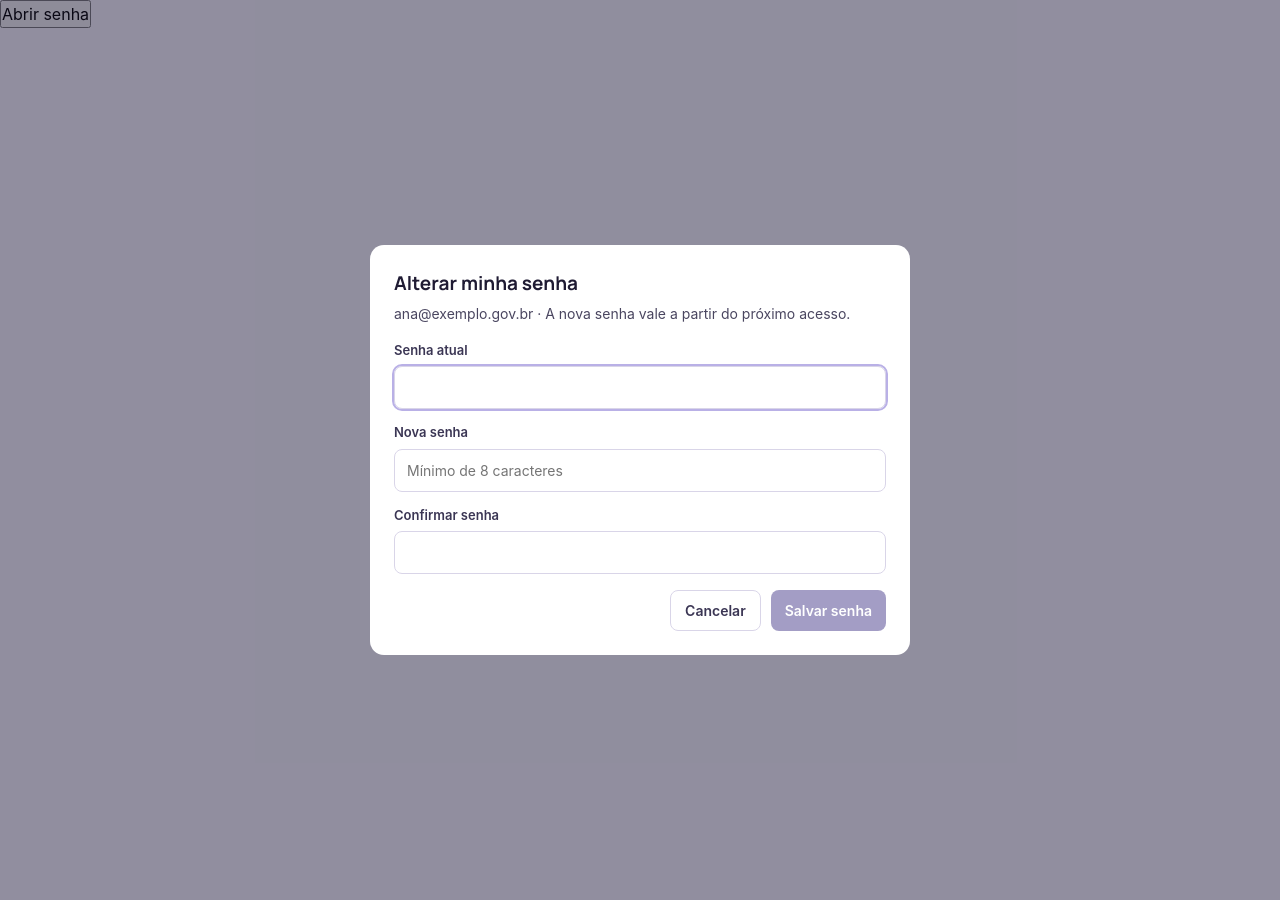
Test case: ChangePasswordDialog › continua aberto com o aviso quando a senha atual está incorreta
In the password field labelled "Senha atual": (640, 388) [394,366,886,409], type "errada-123"
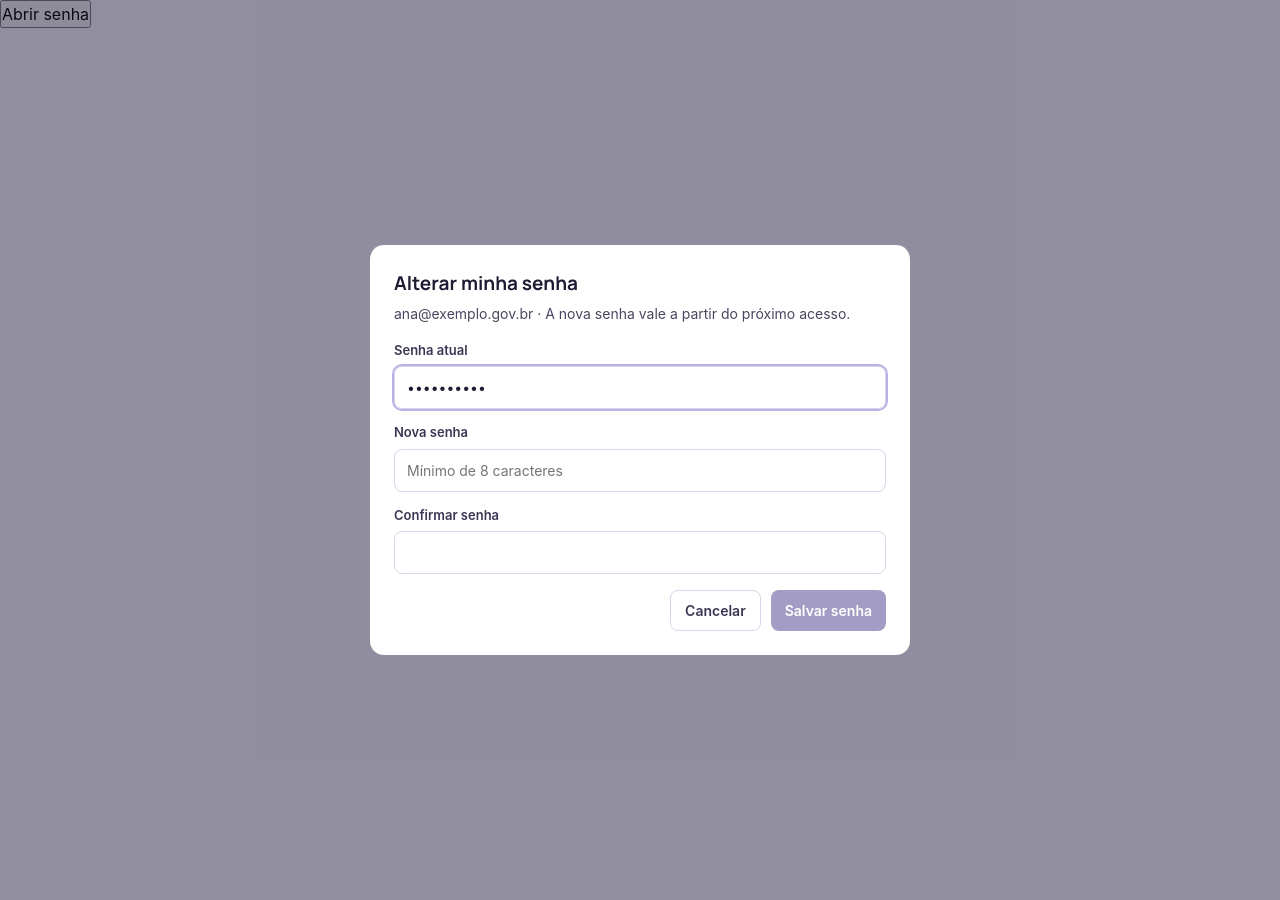
In the password field labelled "Nova senha": (640, 470) [394,449,886,492], type "nova-senha-123"
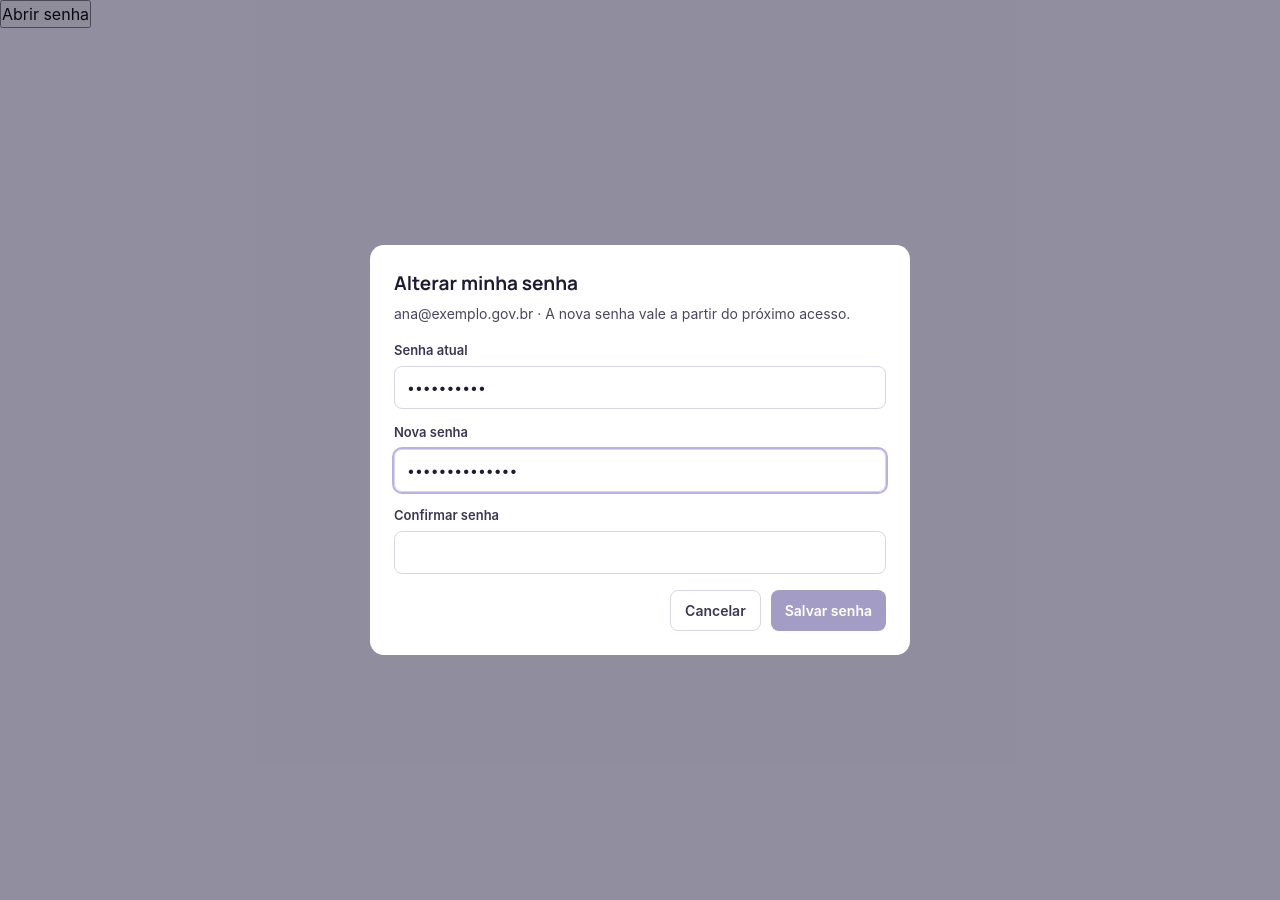
In the password field labelled "Confirmar senha": (640, 553) [394,531,886,574], type "nova-senha-123"
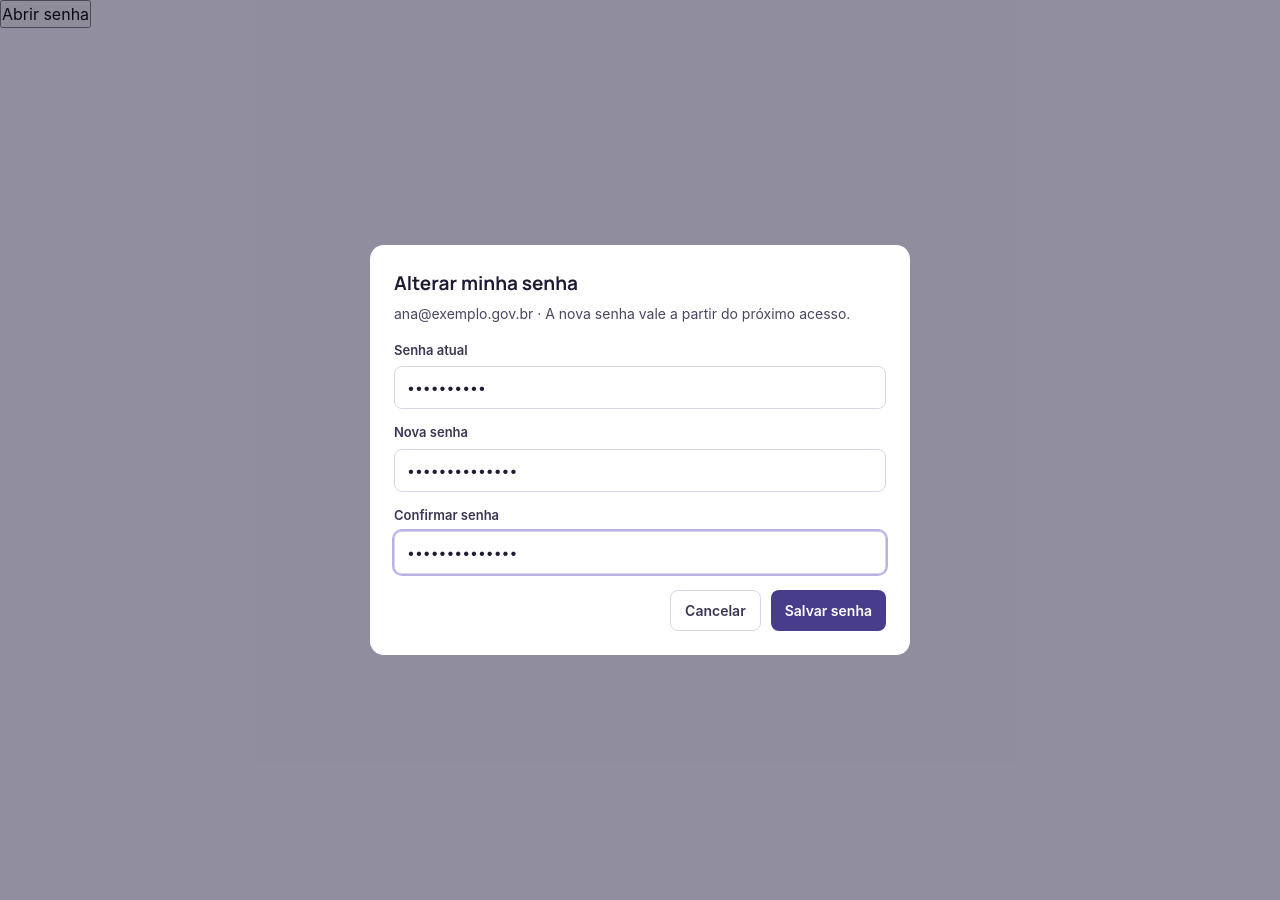
Click the button "Salvar senha": (828, 611) [771,590,886,631]
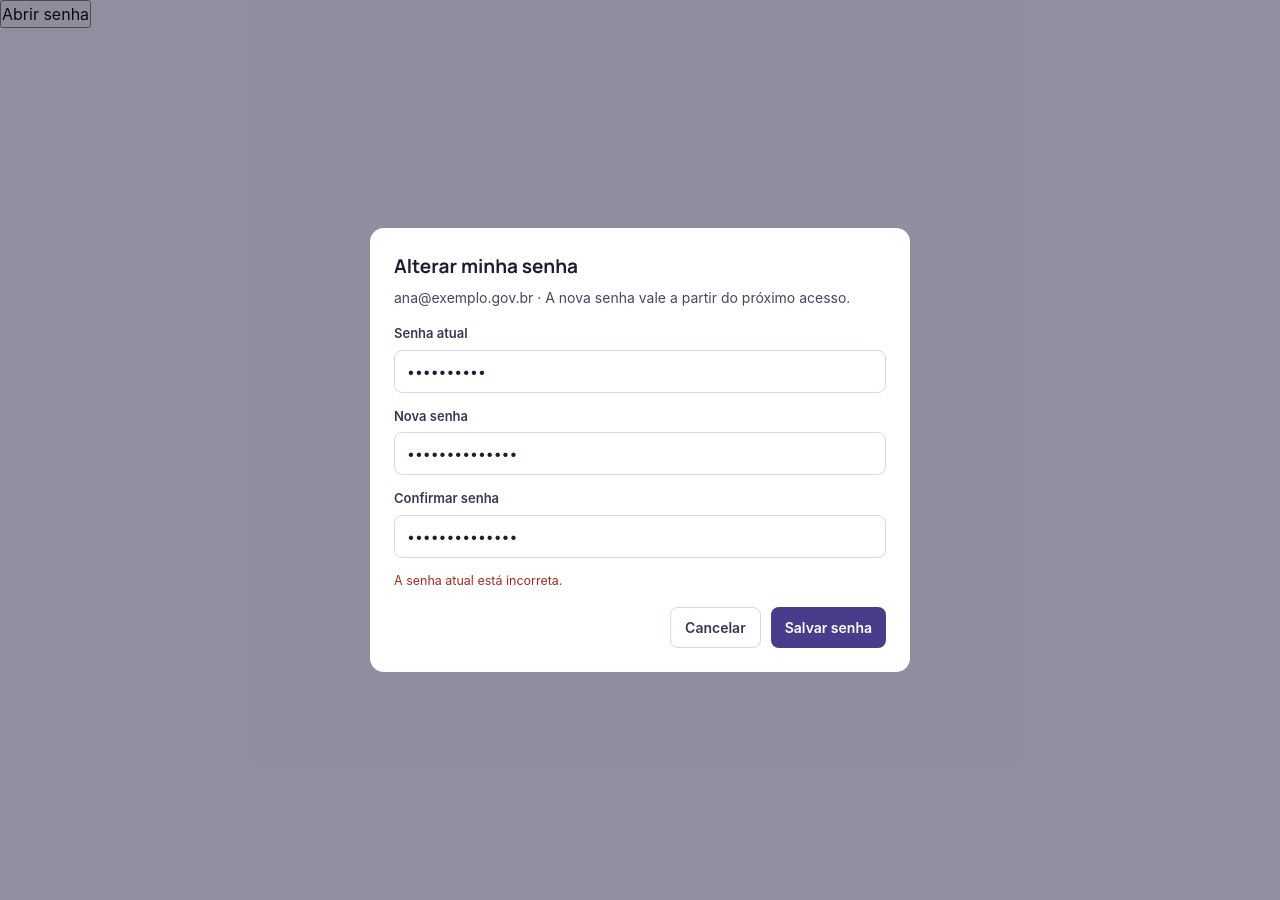
Expected: the dialog is shown, [370,228,910,672]
Now the message reads "A senha atual está incorreta.", box [394,573,562,588]
